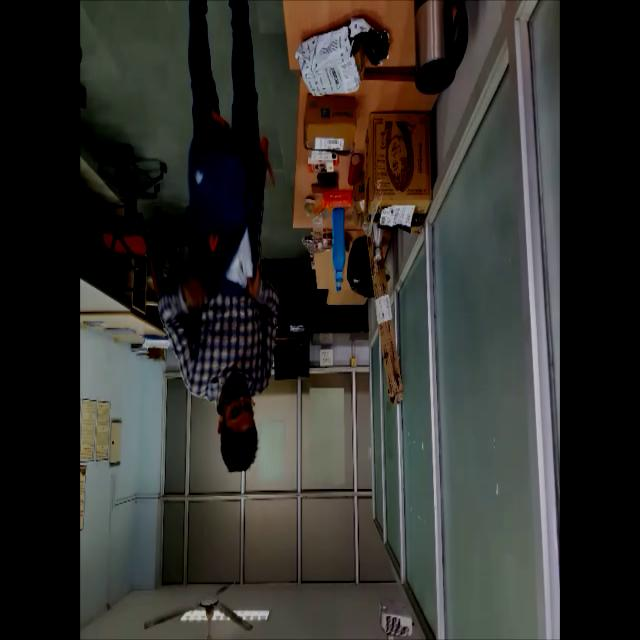shoplifting: (153, 0, 286, 474)
